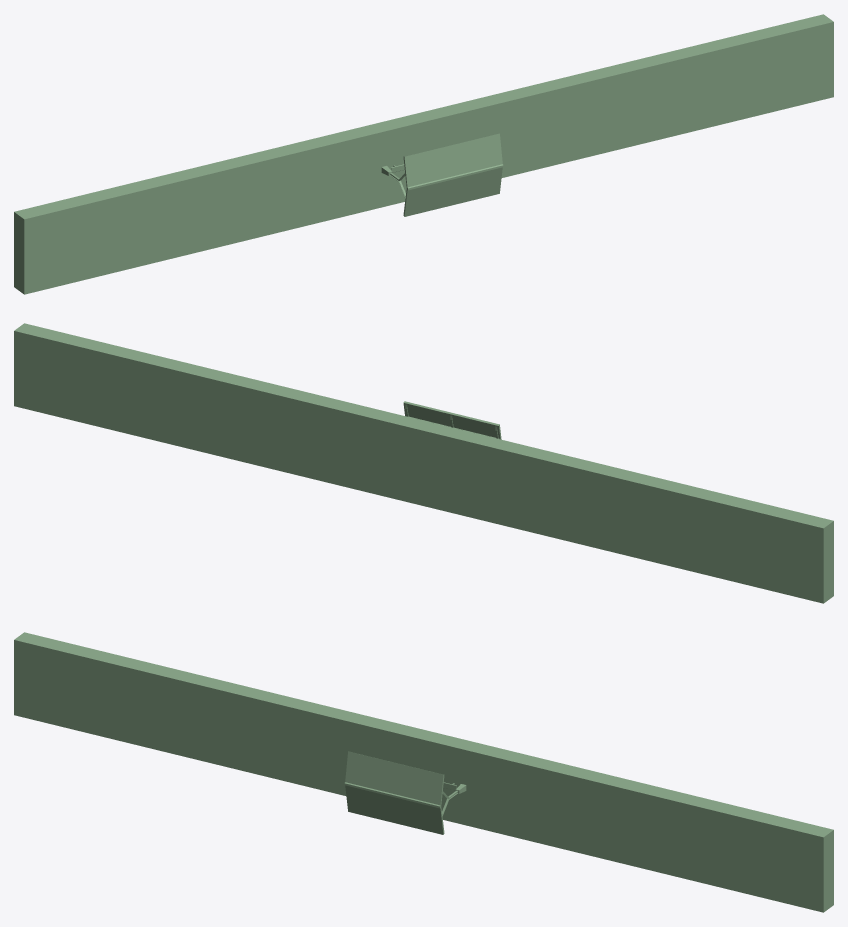
Rendered from shimonada.obj.
3 renders of one model, top to bottom at view 1: azimuth 30°, elevation 25°; view 2: azimuth 150°, elevation 25°; view 3: azimuth 330°, elevation 25°, orthographic.
Visible parts, largest first — view 1: shimonada\platform, shimonada\roof; view 2: shimonada\platform, shimonada\roof; view 3: shimonada\platform, shimonada\roof.
Part boxes in pixels (x1,y1,x2,y2): shimonada\platform: [14, 14, 833, 294]; shimonada\roof: [403, 133, 503, 216]; shimonada\platform: [14, 323, 833, 603]; shimonada\roof: [403, 401, 501, 439]; shimonada\platform: [14, 632, 833, 912]; shimonada\roof: [344, 751, 444, 834].
Bounding box in the file's own units: 90 × 8 × 7.13.
